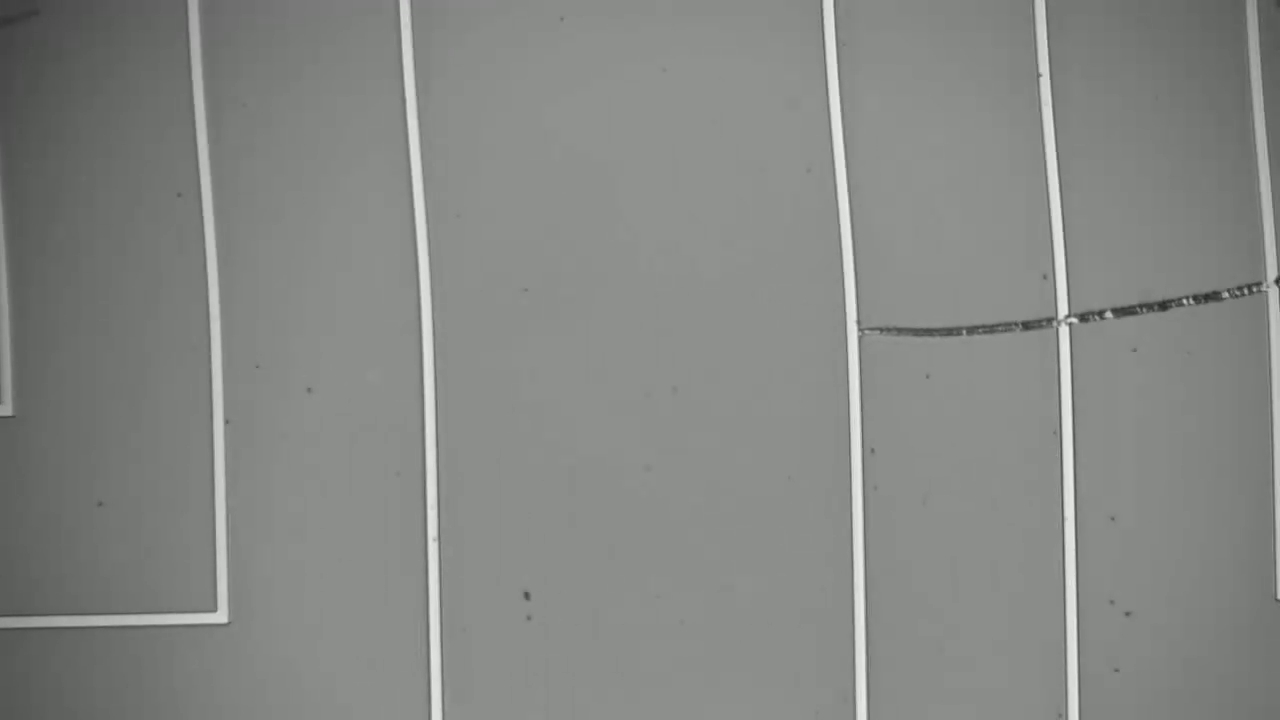scratch: (865, 263, 1265, 358)
